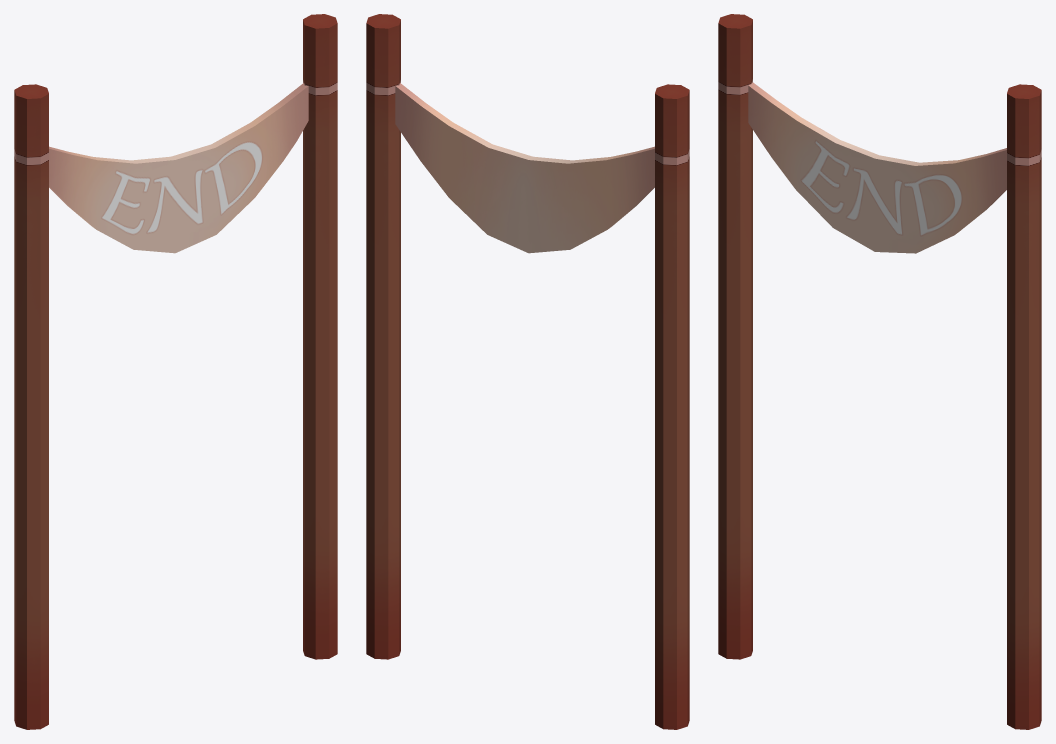
File: Asset_Prop_Goal.fbx
3 renders of one model, left to right at view 1: azimuth 30°, elevation 25°; view 2: azimuth 150°, elevation 25°; view 3: azimuth 330°, elevation 25°, orthographic.
Visible parts, largest first — view 1: Asset_Prop_Goal; view 2: Asset_Prop_Goal; view 3: Asset_Prop_Goal.
Boxes of the visible parts, box(x1,y1,x2,y2) form: Asset_Prop_Goal: box(14, 14, 337, 729); Asset_Prop_Goal: box(366, 14, 689, 729); Asset_Prop_Goal: box(718, 14, 1041, 729).
Bounding box in the file's own units: 95.58 × 180 × 9.31.
